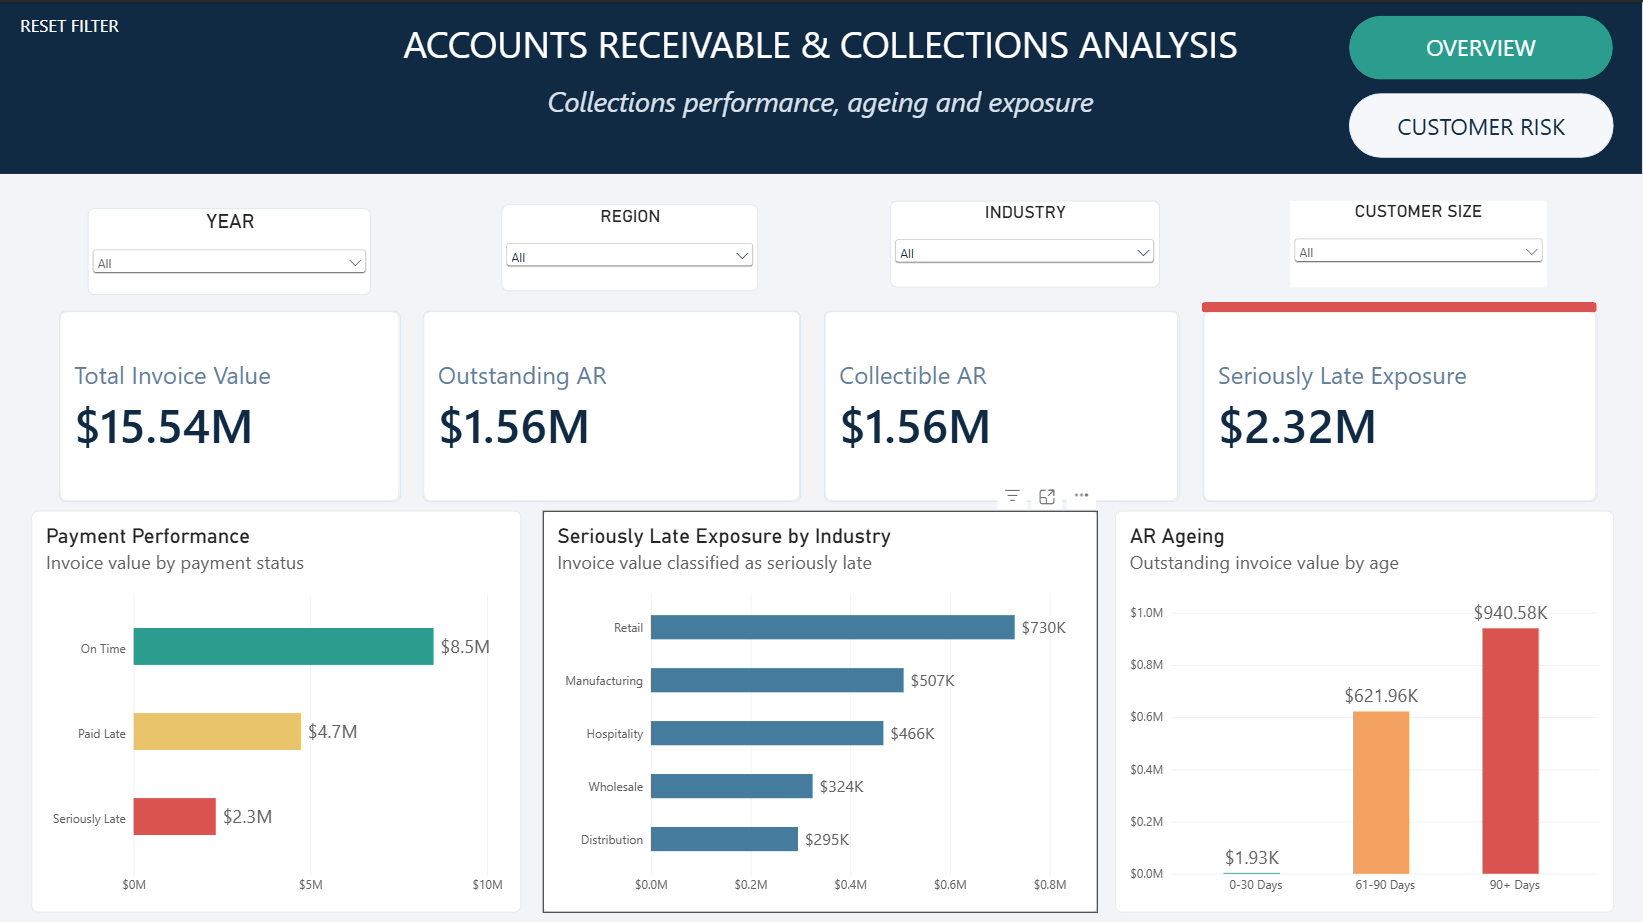

What the dashboard file says about the page in this screenshot:
{"tool":"powerbi","page":{"name":"Overview","canvas":[1920,1080],"ordinal":0},"visuals":[{"type":"textbox","box":[0,0,1910.8,199.7],"z":0},{"type":"cardVisual","fields":{"Data":["Sum(invoices.Invoice_Value)"]},"box":[69.6,359.1,397.2,222.7],"z":1000},{"type":"cardVisual","fields":{"Data":["customer_sql.Outstanding AR"]},"box":[493.4,359.1,440,222.7],"z":2000},{"type":"cardVisual","fields":{"Data":["customer_sql.Collectible AR"]},"box":[959.9,359.1,413.3,222.7],"z":3000},{"type":"cardVisual","fields":{"Data":["customer_sql.Seriously Late Exposure"]},"box":[1399.7,359.1,459.4,222.7],"z":4000},{"type":"shape","box":[1399,348.6,459.6,12.3],"z":5000},{"type":"clusteredBarChart","title":"Payment Performance","fields":{"Category":["invoices.Invoice_Status"],"Y":["Sum(invoices.Invoice_Value)"]},"box":[38.5,591.8,569.8,467.5],"z":6000},{"type":"clusteredColumnChart","title":"AR Ageing","fields":{"Y":["Sum(invoices.Invoice_Value)"],"Category":["invoices.AR Age Bucket"]},"box":[1298.9,591.8,579.8,467.5],"z":7000},{"type":"clusteredBarChart","title":"Seriously Late Exposure by Industry","fields":{"Category":["invoices.industry"],"Y":["Sum(invoices.Invoice_Value)"]},"box":[632.1,591.8,646,467.5],"z":8000},{"type":"actionButton","box":[1570.1,106.3,307.8,75.1],"z":9000},{"type":"actionButton","box":[1570.9,16.1,307,74.2],"z":10000},{"type":"slicer","title":"YEAR","fields":{"Values":["invoices.Year"]},"box":[102.6,239.4,329.8,100.8],"z":11000},{"type":"slicer","title":"REGION","fields":{"Values":["invoices.Region"]},"box":[585,235.1,298.6,100.8],"z":12000},{"type":"slicer","title":"INDUSTRY ","fields":{"Values":["invoices.industry"]},"box":[1036.3,230.8,313.3,100.8],"z":13000},{"type":"slicer","title":"CUSTOMER SIZE","fields":{"Values":["invoices.Customer Size"]},"box":[1502.3,230.8,298.6,100.8],"z":14000},{"type":"actionButton","box":[0,0,164.2,52.3],"z":14001}]}

Visuals, with their boxes in screenshot pixels (x1, y1, x2, y2), scaled from the page's 1920x1080 canvas onto the 1643x922 screenshot:
textbox: region(0, 0, 1635, 170)
cardVisual - Sum(invoices.Invoice_Value): region(60, 307, 399, 497)
cardVisual - customer_sql.Outstanding AR: region(422, 307, 799, 497)
cardVisual - customer_sql.Collectible AR: region(821, 307, 1175, 497)
cardVisual - customer_sql.Seriously Late Exposure: region(1198, 307, 1591, 497)
shape: region(1197, 298, 1590, 308)
"Payment Performance" clusteredBarChart: region(33, 505, 521, 904)
"AR Ageing" clusteredColumnChart: region(1112, 505, 1608, 904)
"Seriously Late Exposure by Industry" clusteredBarChart: region(541, 505, 1094, 904)
actionButton: region(1344, 91, 1607, 155)
actionButton: region(1344, 14, 1607, 77)
"YEAR" slicer: region(88, 204, 370, 290)
"REGION" slicer: region(501, 201, 756, 287)
"INDUSTRY " slicer: region(887, 197, 1155, 283)
"CUSTOMER SIZE" slicer: region(1286, 197, 1541, 283)
actionButton: region(0, 0, 141, 45)
